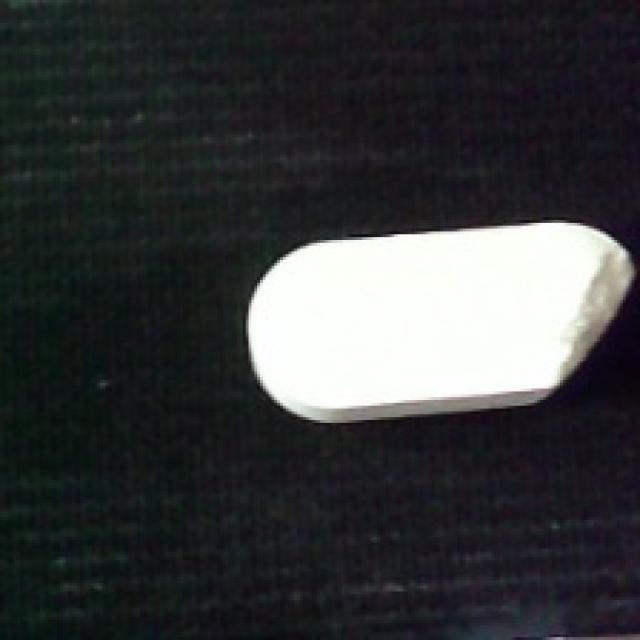defected: (240, 217, 637, 423)
